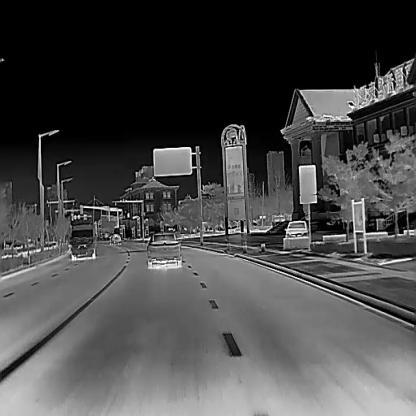car: (146, 231, 182, 265), (68, 219, 96, 260), (284, 219, 309, 237), (108, 232, 121, 244)
